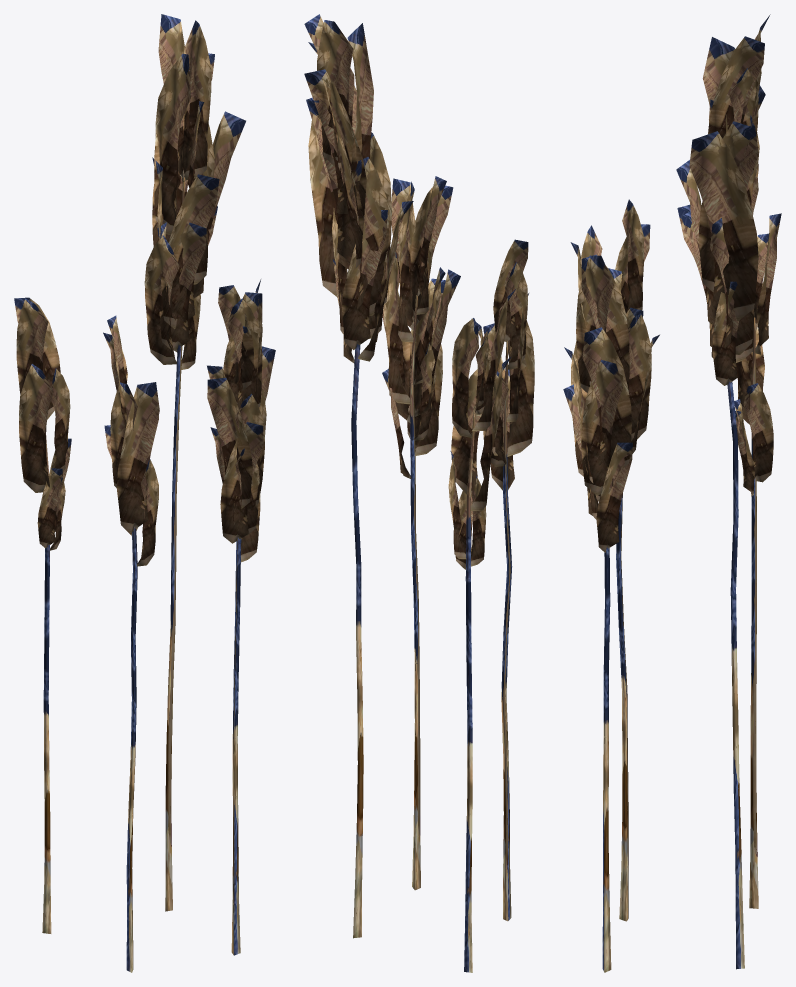
3 renders of one model, left to right at view 1: azimuth 30°, elevation 25°; view 2: azimuth 150°, elevation 25°; view 3: azimuth 270°, elevation 25°, orthographic. The views are drawn at different scales.
Parts seen in each view (by area): view 1: SM_Longbow_Ulvs_2H_01_LOD0; view 2: SM_Longbow_Ulvs_2H_01_LOD0; view 3: SM_Longbow_Ulvs_2H_01_LOD0.
Part boxes in pixels (<box>): SM_Longbow_Ulvs_2H_01_LOD0: <box>14,14,275,972</box>; SM_Longbow_Ulvs_2H_01_LOD0: <box>304,14,534,972</box>; SM_Longbow_Ulvs_2H_01_LOD0: <box>563,14,781,972</box>.
Size of the model in its own units: 0.4539 by 1.89 by 0.3911.
